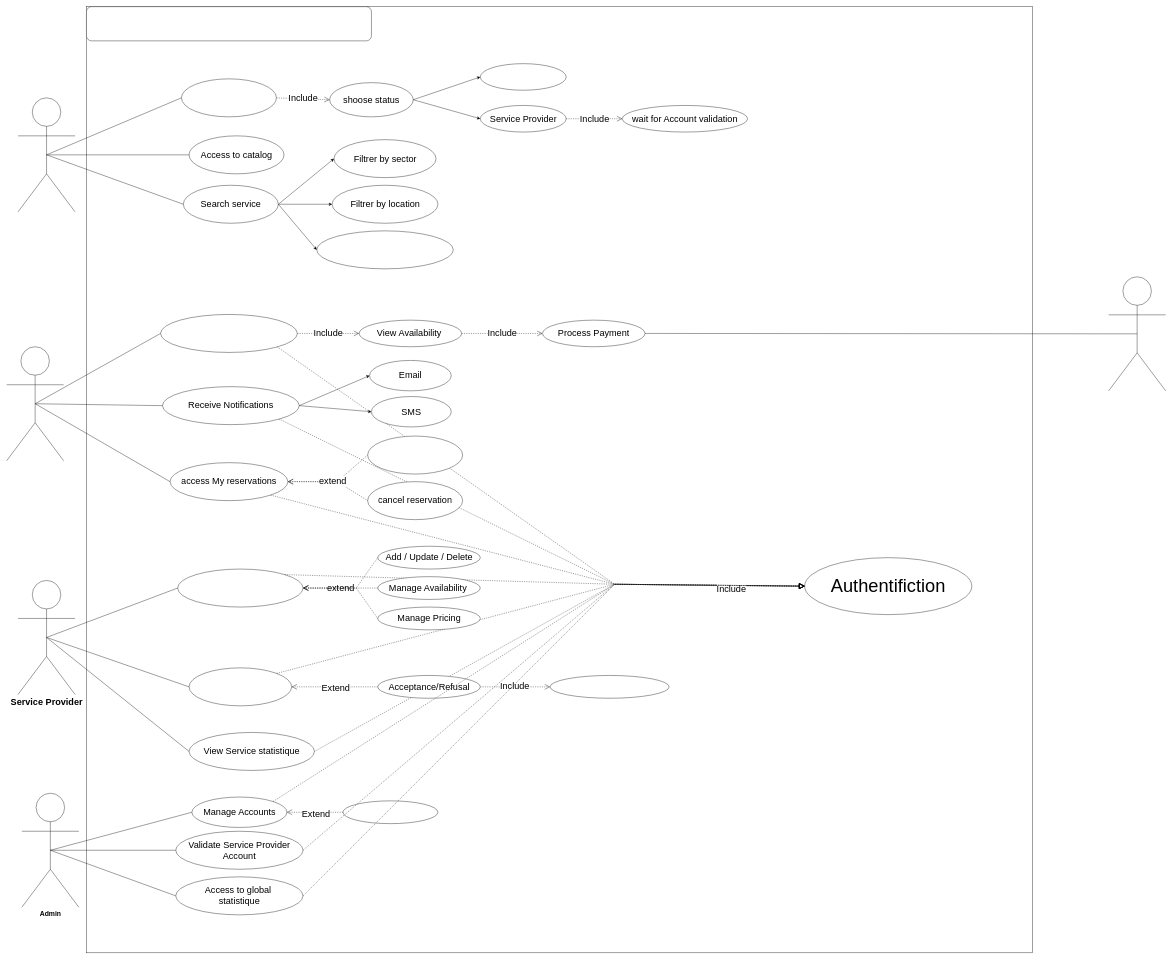
This 1172x960 diagram has some shape labels left out. The shapes that lost their labels are listed below. From the top down, each one's box as (x1, y1, x2, y2) in pixels, then its label:
(86, 6, 371, 41): System de gestion de platform de reservation Reservez-Moi
(480, 63, 566, 90): Client
(181, 78, 276, 117): Create account
(18, 97, 75, 212): Visitor
(316, 230, 453, 269): Filter by availability, price
(160, 314, 297, 352): Make Reservation
(1108, 276, 1166, 391): Bank
(6, 346, 64, 461): User
(367, 436, 463, 474): Update reservation
(177, 569, 303, 607): Manage Service Listings
(189, 667, 292, 706): Manage Reservations
(550, 675, 669, 698): Notifications
(343, 800, 438, 824): suspension
